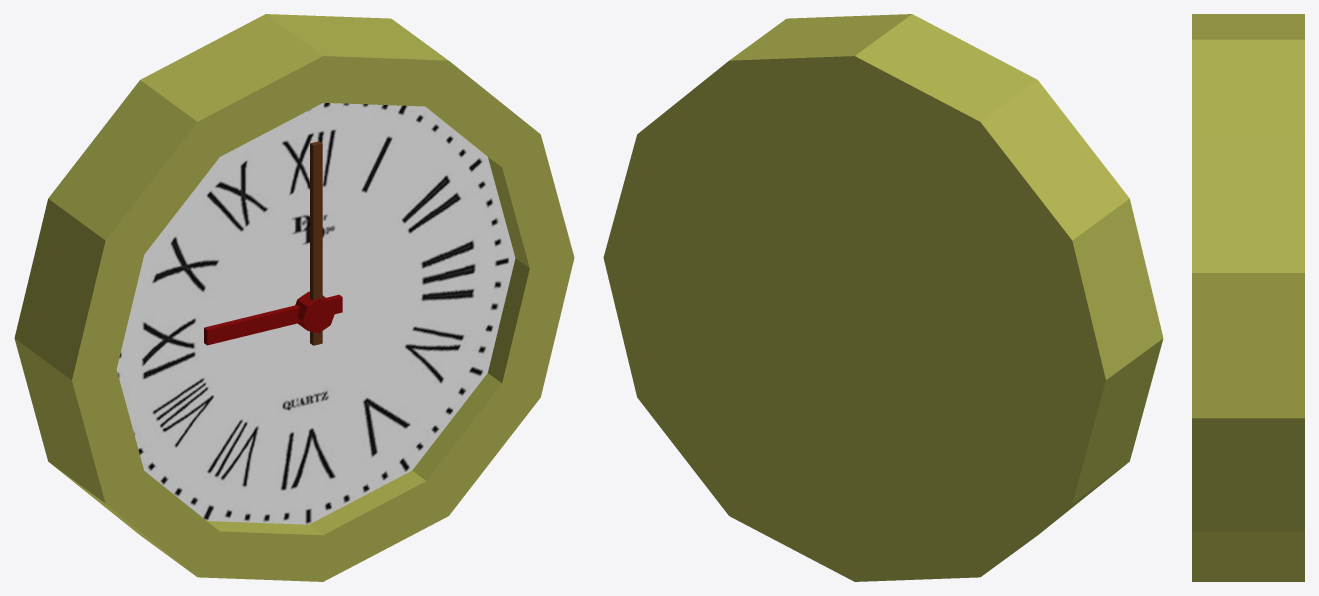
Rendered from reloj.fbx.
The picture shows the model from 3 angles, left to right: view 1: azimuth 30°, elevation 25°; view 2: azimuth 150°, elevation 25°; view 3: azimuth 270°, elevation 25°; orthographic projection.
Parts seen in each view (by area): view 1: pPlane2, pCylinder15, pCube6, pCube7, pCylinder16; view 2: pCylinder15; view 3: pCylinder15.
Boxes of the visible parts, box(x1,y1,x2,y2) form: pPlane2: box(116, 103, 515, 524); pCylinder15: box(14, 14, 574, 581); pCube6: box(310, 141, 322, 345); pCube7: box(204, 294, 342, 345); pCylinder16: box(295, 291, 335, 332); pCylinder15: box(603, 14, 1163, 581); pCylinder15: box(1192, 14, 1304, 581).
Bounding box in the file's own units: 7.27 × 7.27 × 1.44.
5 materials, 1 textured.
